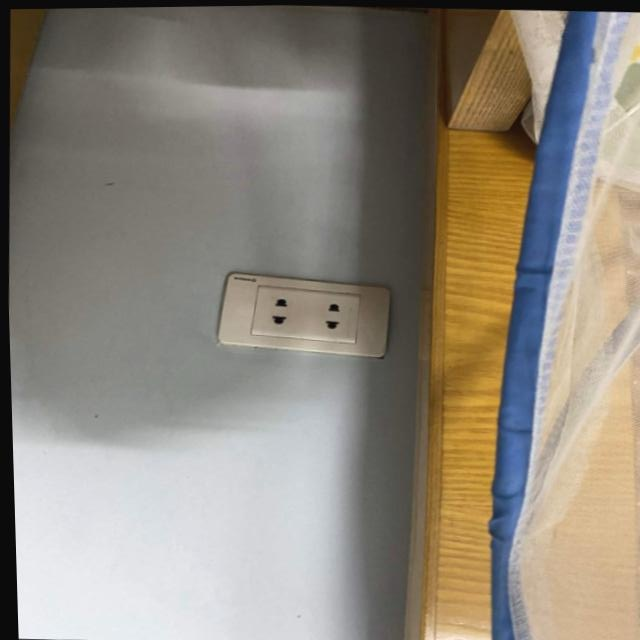outlet: (215, 267, 395, 360)
